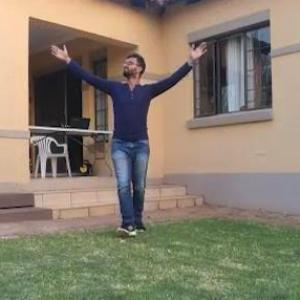takeoff: (64, 53, 211, 239)
